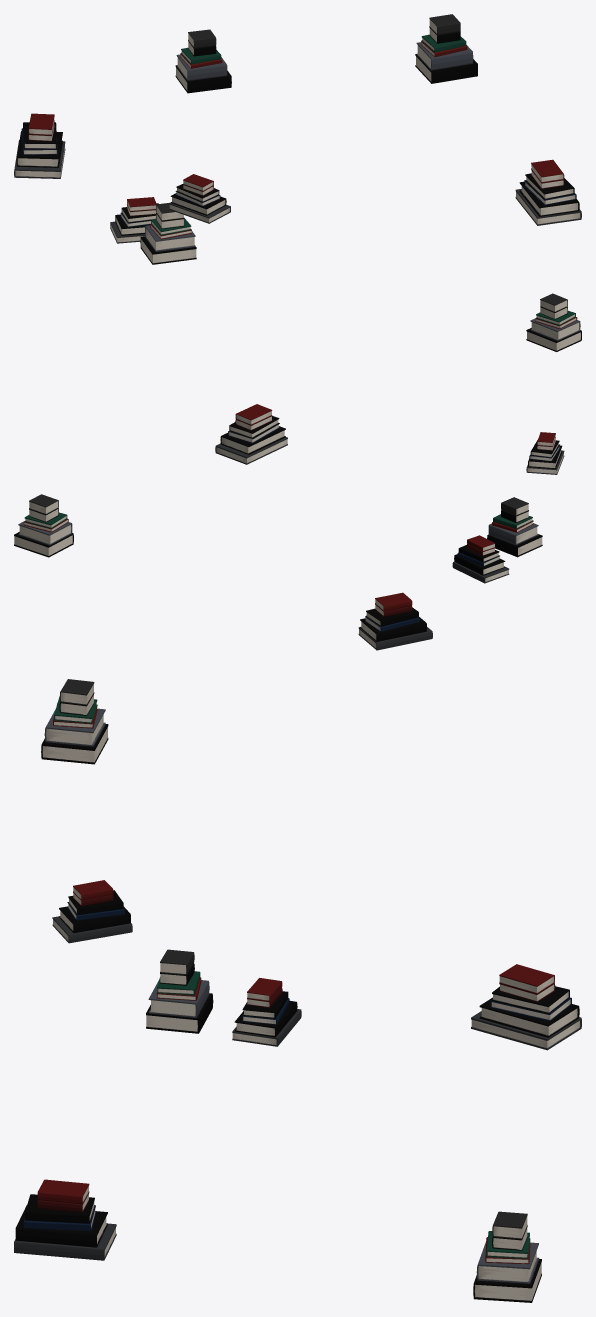
File: stacks_of_books.obj
The picture shows the model from 3 angles, top to bottom: view 1: azimuth 30°, elevation 25°; view 2: azimuth 150°, elevation 25°; view 3: azimuth 270°, elevation 25°; orthographic projection. The views are drawn at different scales.
Parts seen in each view (by area): view 1: stack_of_books4_Cube.063, stack_of_books1_Cube.046, stack_of_books_Cube.007, stack_of_books2_Cube.048, stack_of_books5_Cube.028, stack_of_books3_Cube.016, stack_of_books6_Cube.047; view 2: stack_of_books_Cube.007, stack_of_books1_Cube.046, stack_of_books4_Cube.063, stack_of_books5_Cube.028, stack_of_books2_Cube.048, stack_of_books6_Cube.047, stack_of_books3_Cube.016; view 3: stack_of_books1_Cube.046, stack_of_books_Cube.007, stack_of_books4_Cube.063, stack_of_books2_Cube.048, stack_of_books5_Cube.028, stack_of_books3_Cube.016, stack_of_books6_Cube.047.
Part boxes in pixels (x1,y1,x2,y2): stack_of_books4_Cube.063: [415, 14, 477, 83]; stack_of_books1_Cube.046: [515, 159, 581, 225]; stack_of_books_Cube.007: [14, 113, 65, 178]; stack_of_books2_Cube.048: [175, 29, 231, 93]; stack_of_books5_Cube.028: [140, 202, 196, 264]; stack_of_books3_Cube.016: [169, 174, 230, 223]; stack_of_books6_Cube.047: [110, 197, 158, 243]; stack_of_books_Cube.007: [358, 592, 432, 650]; stack_of_books1_Cube.046: [215, 404, 287, 464]; stack_of_books4_Cube.063: [14, 494, 73, 557]; stack_of_books5_Cube.028: [487, 497, 542, 557]; stack_of_books2_Cube.048: [526, 293, 581, 351]; stack_of_books6_Cube.047: [452, 535, 509, 583]; stack_of_books3_Cube.016: [526, 432, 564, 474]; stack_of_books1_Cube.046: [14, 1179, 116, 1260]; stack_of_books_Cube.007: [471, 964, 581, 1050]; stack_of_books4_Cube.063: [473, 1211, 541, 1302]; stack_of_books2_Cube.048: [41, 679, 108, 764]; stack_of_books5_Cube.028: [146, 949, 213, 1033]; stack_of_books3_Cube.016: [52, 880, 132, 943]; stack_of_books6_Cube.047: [232, 978, 301, 1046].
Size of the model in its own units: 4.56 by 2.43 by 3.7.
1 material, 1 textured.
